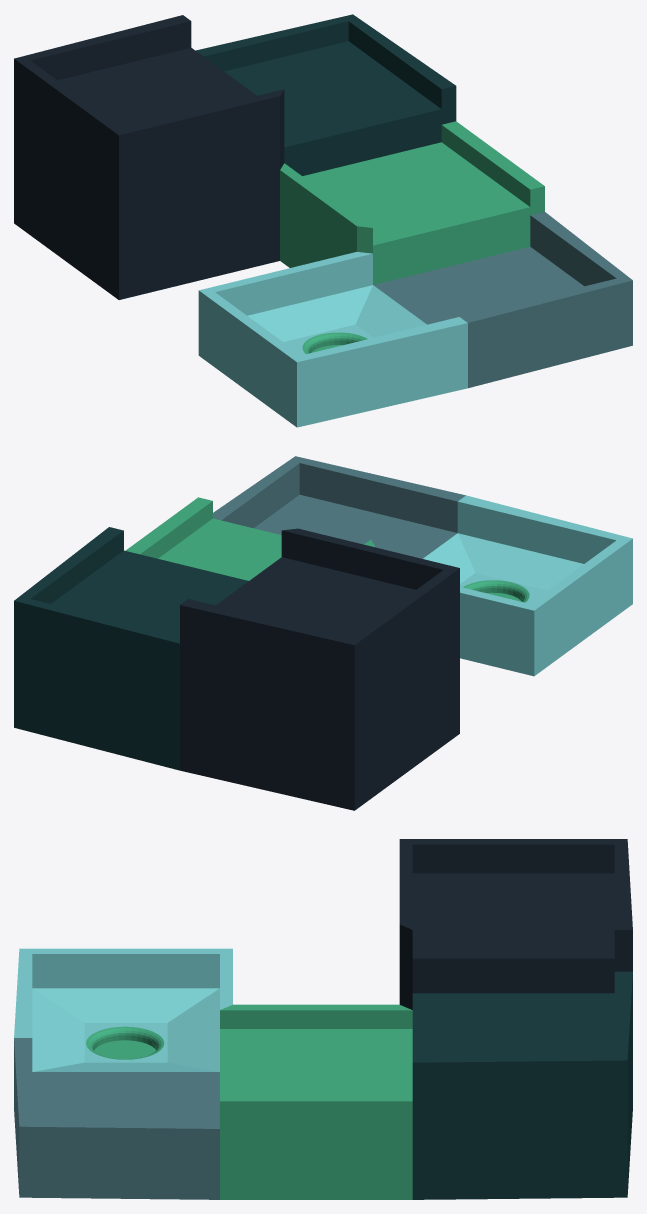
File: map1.fbx
The picture shows the model from 3 angles, top to bottom: view 1: azimuth 30°, elevation 25°; view 2: azimuth 150°, elevation 25°; view 3: azimuth 270°, elevation 25°; orthographic projection. The views are drawn at different scales.
Parts seen in each view (by area): view 1: Cube; view 2: Cube; view 3: Cube.
Part boxes in pixels (x1,y1,x2,y2): Cube: (14,14,632,427); Cube: (14,456,632,810); Cube: (14,839,632,1199).
Bounding box in the file's own units: 53.93 × 24.74 × 77.54.
1 material, 1 textured.
